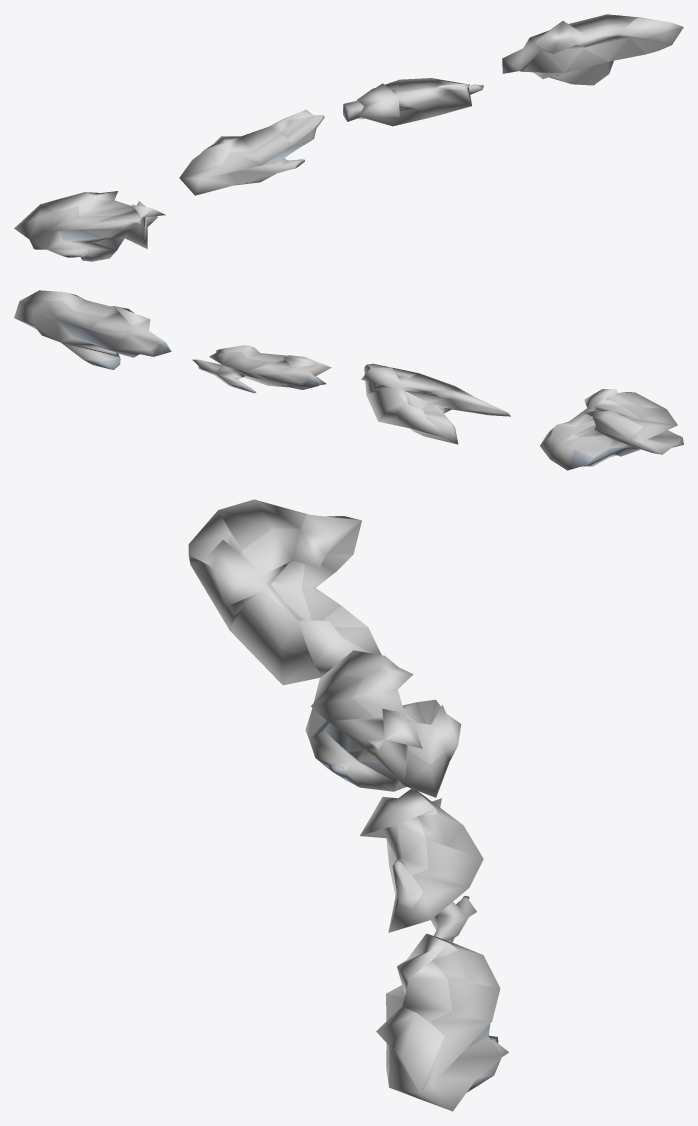
Rendered from bigCloud.FBX.
The picture shows the model from 3 angles, top to bottom: view 1: azimuth 30°, elevation 25°; view 2: azimuth 150°, elevation 25°; view 3: azimuth 270°, elevation 25°; orthographic projection. The views are drawn at different scales.
Visible parts, largest first — view 1: cloud1, cloud004, cloud003, cloud002; view 2: cloud004, cloud1, cloud003, cloud002; view 3: cloud004, cloud1, cloud003, cloud002.
Part boxes in pixels (bbox=[...]): cloud1: bbox=[502, 14, 683, 85]; cloud004: bbox=[14, 191, 165, 261]; cloud003: bbox=[179, 110, 324, 195]; cloud002: bbox=[343, 78, 483, 126]; cloud004: bbox=[540, 389, 683, 470]; cloud1: bbox=[14, 290, 171, 369]; cloud003: bbox=[361, 363, 510, 444]; cloud002: bbox=[192, 345, 331, 393]; cloud004: bbox=[188, 499, 381, 685]; cloud1: bbox=[376, 933, 508, 1111]; cloud003: bbox=[305, 650, 461, 797]; cloud002: bbox=[360, 787, 483, 940].
Bounding box in the file's own units: 1048 × 125 × 233.
